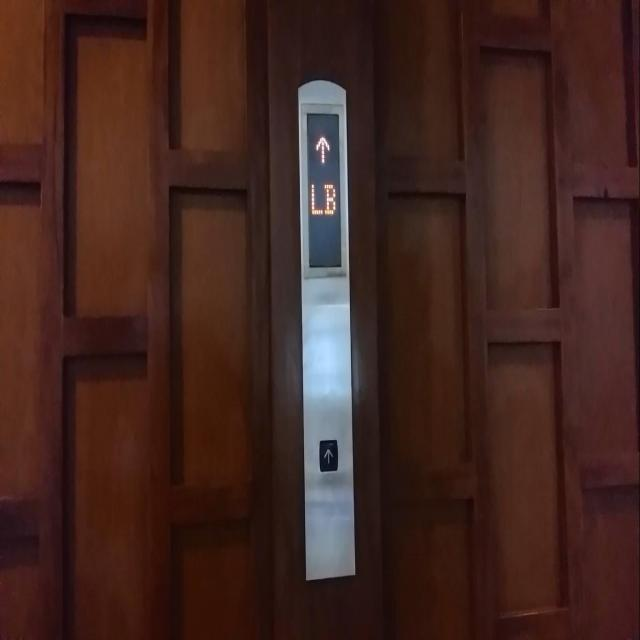led: (305, 111, 342, 269)
up: (318, 437, 340, 473)
